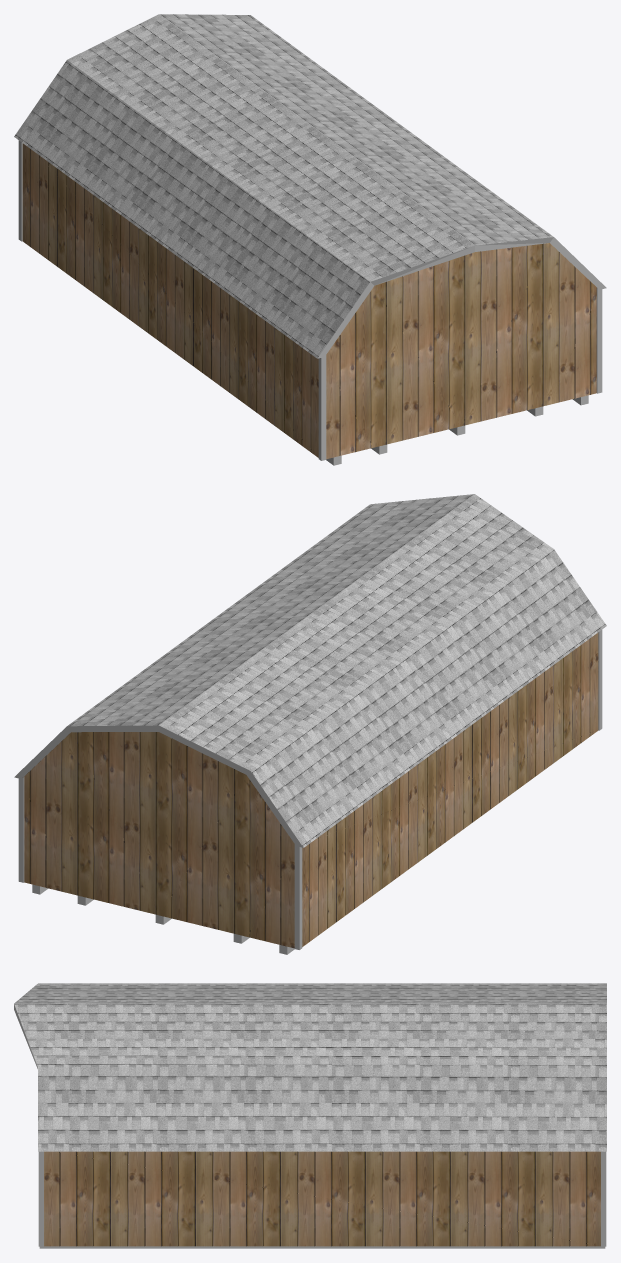
The model's file is Mini Barn Sheds_12x22.obj.
The picture shows the model from 3 angles, top to bottom: view 1: azimuth 30°, elevation 25°; view 2: azimuth 150°, elevation 25°; view 3: azimuth 270°, elevation 25°; orthographic projection. The views are drawn at different scales.
Parts seen in each view (by area): view 1: Roof, Shed, Sides, Trim; view 2: Roof, Shed, Sides, Trim; view 3: Roof, Shed, Floor, Trim.
Boxes of the visible parts, x1,y1,x2,y2 form: Roof: (14,14,553,358); Shed: (22,143,596,459); Sides: (317,237,606,358); Trim: (18,140,602,460); Roof: (67,494,606,847); Shed: (23,632,598,948); Sides: (14,725,303,847); Trim: (18,630,602,949); Roof: (14,983,606,1151); Shed: (44,1151,600,1246); Floor: (39,1246,605,1248); Trim: (38,1151,606,1246).
Size of the model in its own units: 3.72 by 2.44 by 7.03.
